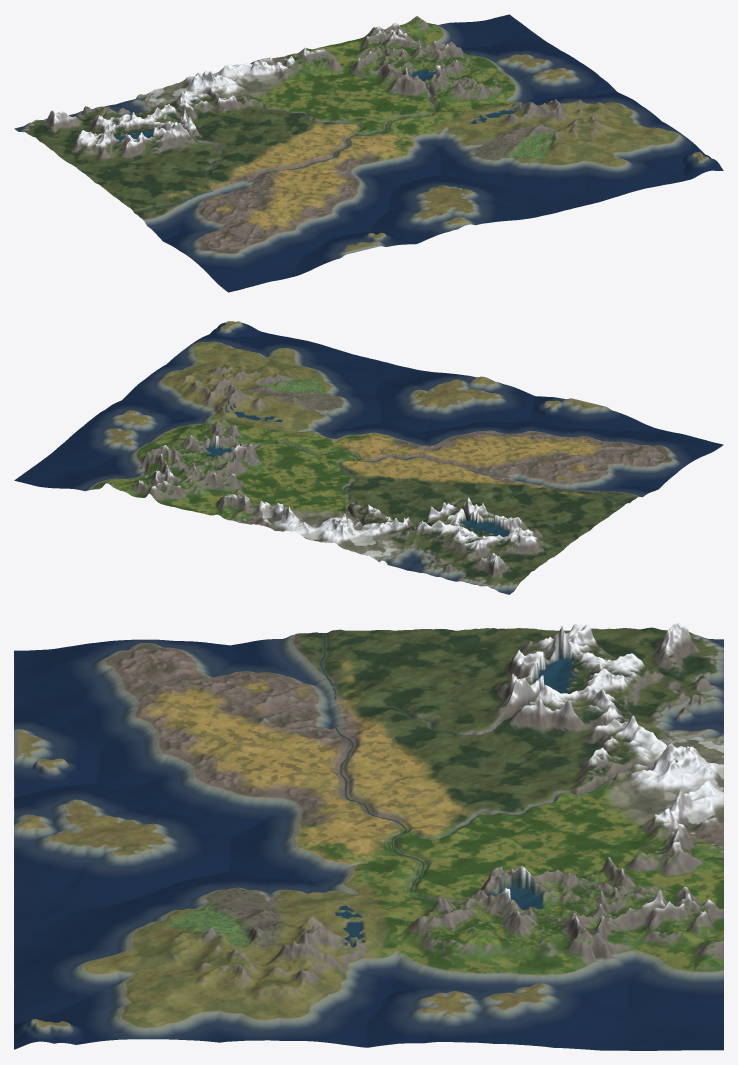
File: kolodcy.glb
3 renders of one model, top to bottom at view 1: azimuth 30°, elevation 25°; view 2: azimuth 150°, elevation 25°; view 3: azimuth 270°, elevation 25°, orthographic. The views are drawn at different scales.
Parts seen in each view (by area): view 1: KolodcyTerrain; view 2: KolodcyTerrain; view 3: KolodcyTerrain.
Part boxes in pixels (x1,y1,x2,y2): KolodcyTerrain: (14,14,723,292); KolodcyTerrain: (14,321,723,594); KolodcyTerrain: (14,623,723,1050).
Bounding box in the file's own units: 32 × 2.31 × 24.
1 material, 1 textured.
